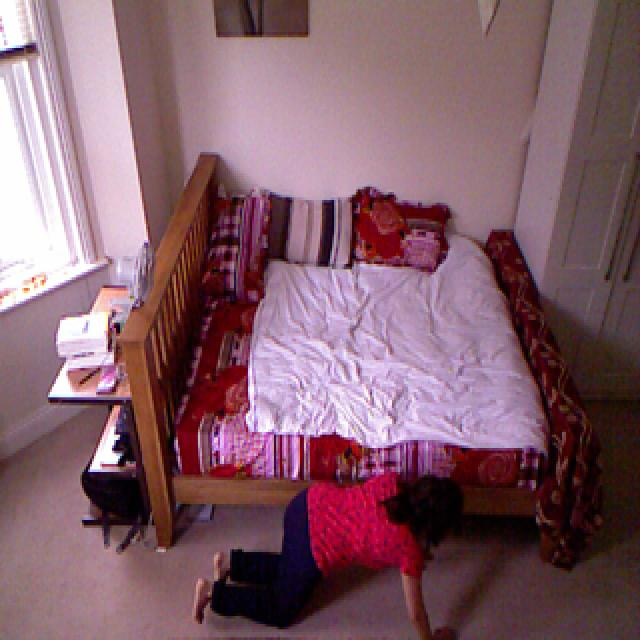crawling: (196, 472, 467, 638)
